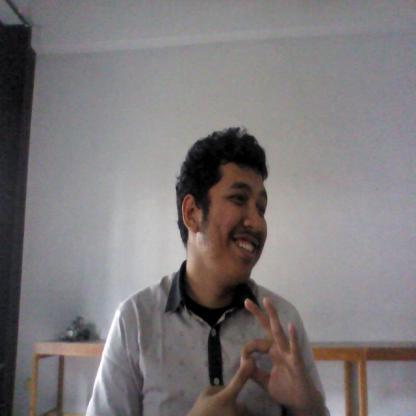Q: (199, 294, 311, 416)
